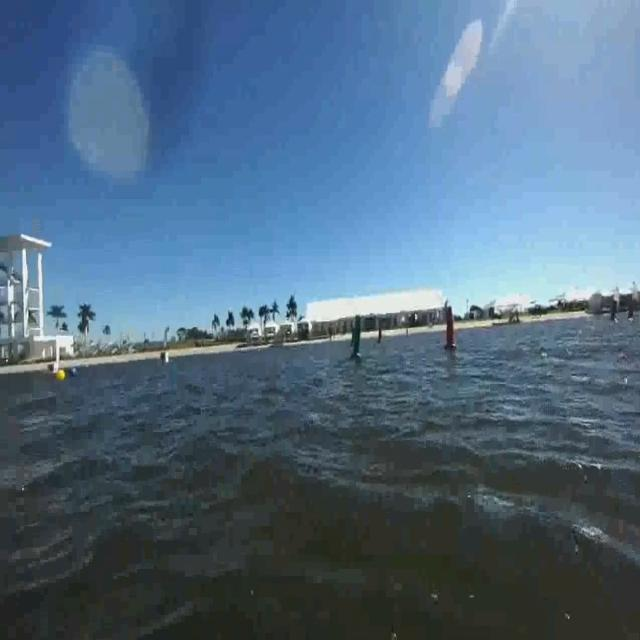green-column-buoy: (350, 310, 364, 368)
red-column-buoy: (440, 307, 459, 356)
yellow-buoy: (56, 364, 67, 380)
